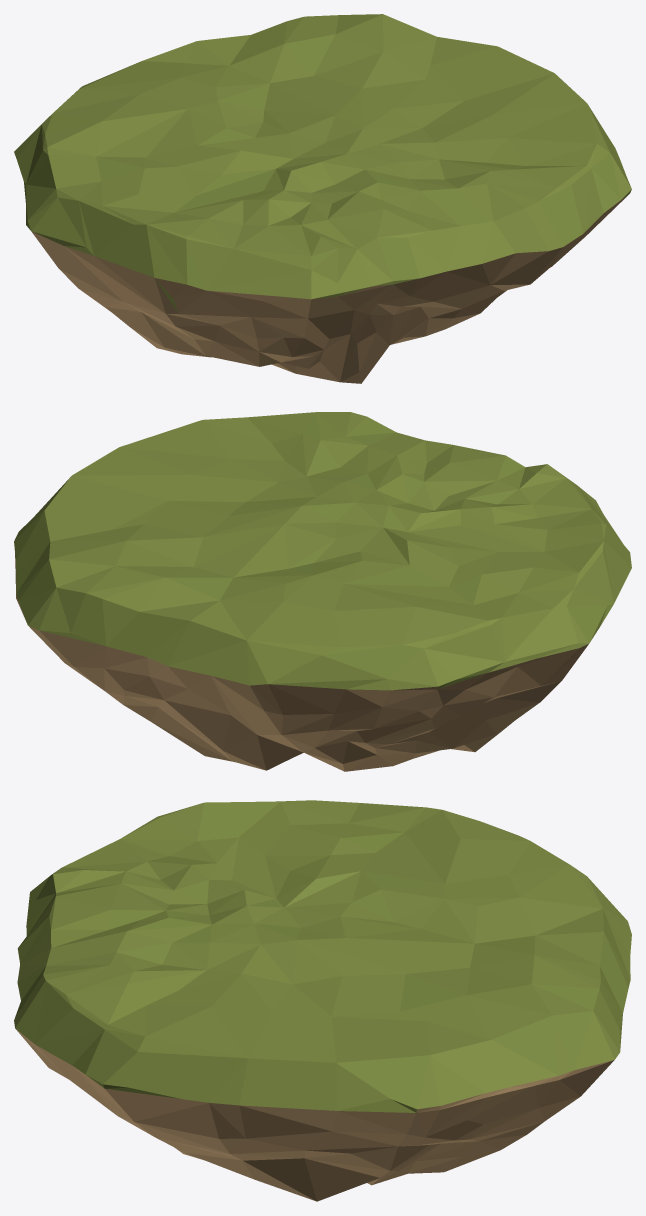
The model's file is islandmedium.fbx.
3 renders of one model, top to bottom at view 1: azimuth 30°, elevation 25°; view 2: azimuth 150°, elevation 25°; view 3: azimuth 270°, elevation 25°, orthographic. The views are drawn at different scales.
Parts seen in each view (by area): view 1: polySurface1; view 2: polySurface1; view 3: polySurface1.
Boxes of the visible parts, x1,y1,x2,y2 form: polySurface1: (14, 14, 631, 383); polySurface1: (14, 412, 631, 771); polySurface1: (14, 800, 631, 1201).
Size of the model in its own units: 436 by 149 by 392.
